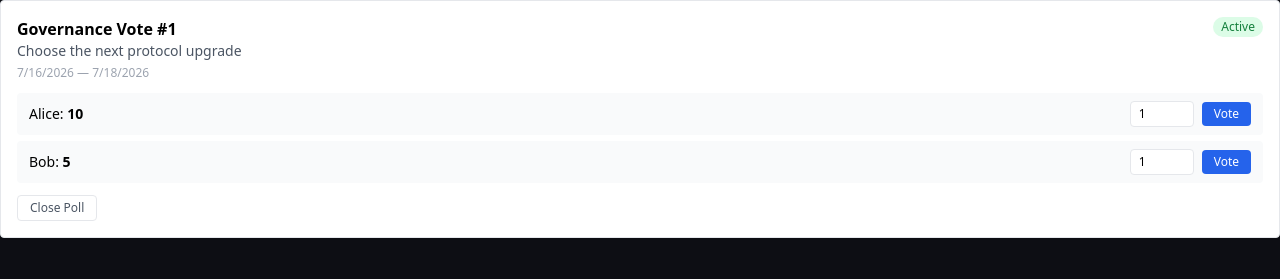
PollCard › displays generic error when vote rejects with non-Error
The image size is (1280, 279).
Click the button "Vote" in the row of "Alice": x=1226, y=114 [1202,102,1251,126]
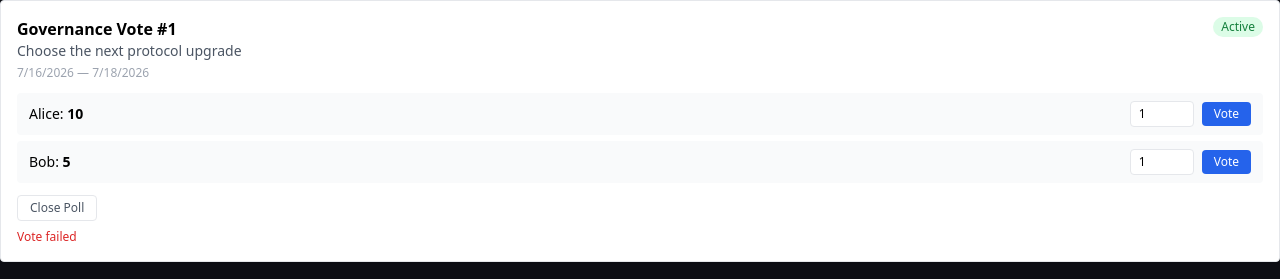
Check: the text "Vote failed" is shown, box [17,228,77,245]
